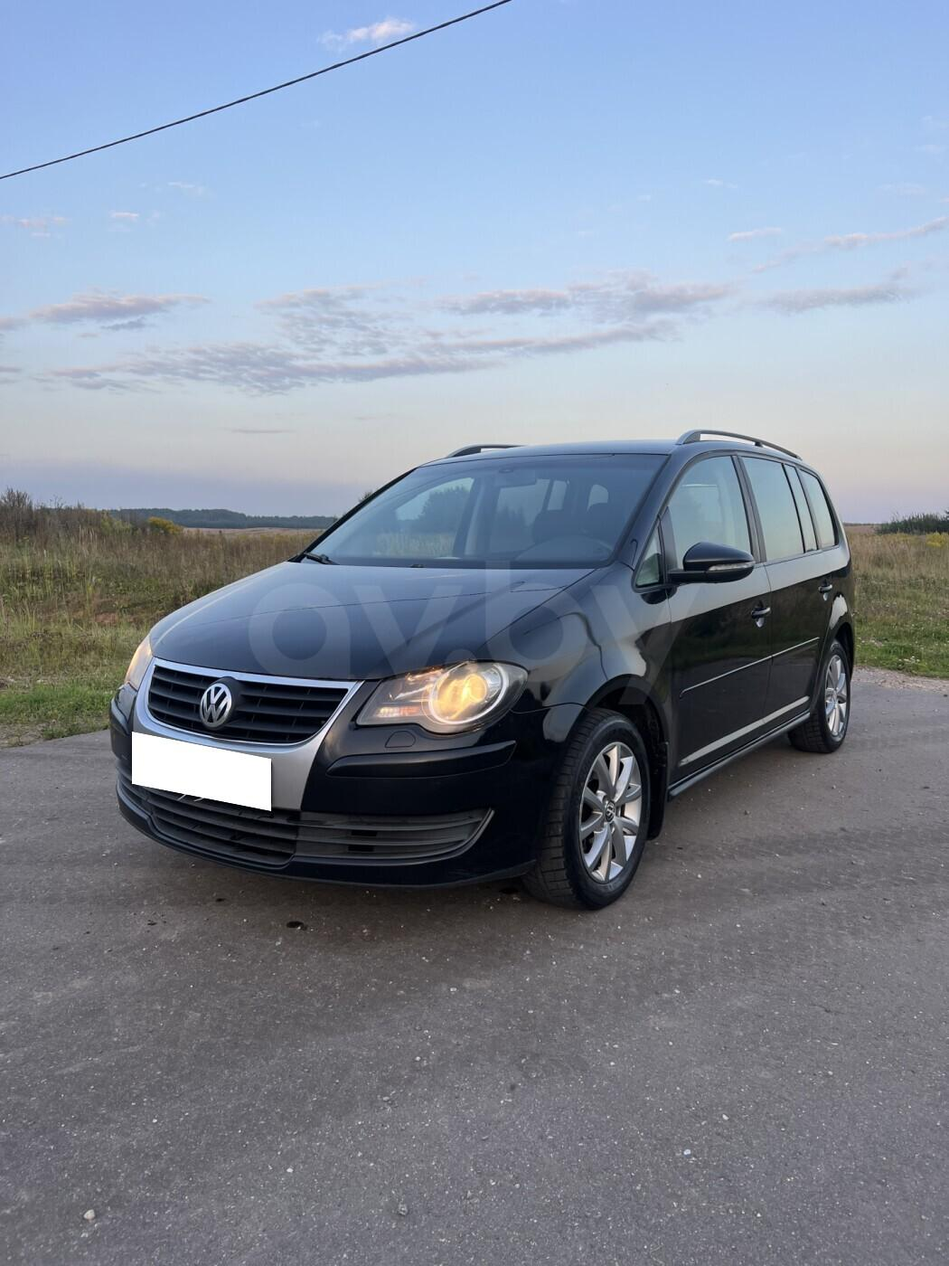Touran_2006-2010: (108, 434, 868, 926)
